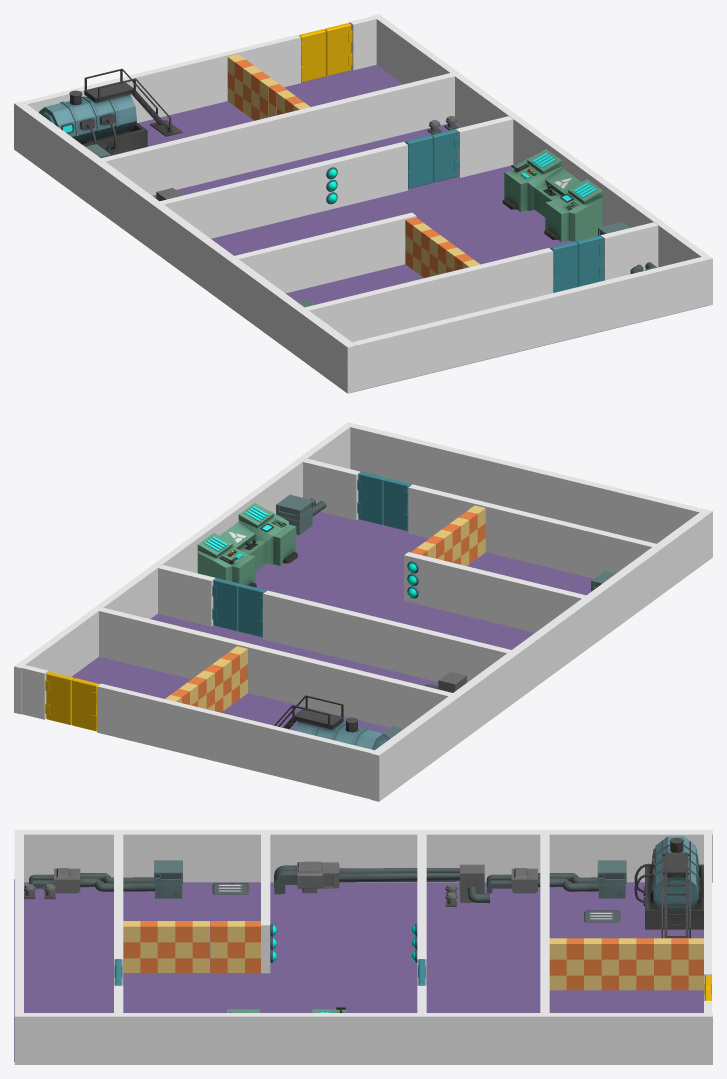
Rendered from maps_47.fbx.
3 renders of one model, top to bottom at view 1: azimuth 30°, elevation 25°; view 2: azimuth 150°, elevation 25°; view 3: azimuth 270°, elevation 25°, orthographic. The views are drawn at different scales.
Parts seen in each view (by area): view 1: wall_01_08_geo, wall_01_07_geo, wall_01_05_geo, wall_01_03_geo7, wall_01_03_geo10, wall_01_03_geo8, wall_01_06_geo, wall_01_03_geo9, wall_01_09_geo, table_01_geo, tankwater_geo, wall_01_03_geo11 (+6 smaller); view 2: wall_01_08_geo, wall_01_07_geo, wall_01_05_geo, wall_01_03_geo7, wall_01_09_geo, wall_01_03_geo10, wall_01_06_geo, wall_01_03_geo8, wall_01_03_geo9, table_01_geo, wall_01_03_geo11, wall_01_03_geo6 (+7 smaller); view 3: wall_01_08_geo, wall_01_06_geo, wall_01_07_geo, tankwater_geo, generatorStation_03_geo, generatorStation_04_geo, generatorStation_04_geo2, wall_01_03_geo7, wall_01_05_geo, wall_01_03_geo9, wall_01_03_geo8, wall_01_03_geo10 (+10 smaller).
Part boxes in pixels (<box>): wall_01_08_geo: <box>138,64,708,392</box>; wall_01_07_geo: <box>14,101,356,393</box>; wall_01_05_geo: <box>352,257,706,391</box>; wall_01_03_geo7: <box>101,73,454,195</box>; wall_01_03_geo10: <box>160,141,407,238</box>; wall_01_03_geo8: <box>305,248,553,341</box>; wall_01_06_geo: <box>372,14,712,306</box>; wall_01_03_geo9: <box>234,212,416,293</box>; wall_01_09_geo: <box>23,34,300,122</box>; table_01_geo: <box>502,149,602,241</box>; tankwater_geo: <box>39,68,182,155</box>; wall_01_03_geo11: <box>455,116,513,177</box>; wall_01_08_geo: <box>71,512,593,732</box>; wall_01_07_geo: <box>370,509,712,801</box>; wall_01_05_geo: <box>350,424,703,543</box>; wall_01_03_geo7: <box>99,608,452,728</box>; wall_01_09_geo: <box>97,683,374,798</box>; wall_01_03_geo10: <box>263,590,511,682</box>; wall_01_06_geo: <box>14,422,354,714</box>; wall_01_03_geo8: <box>408,484,655,578</box>; wall_01_03_geo9: <box>404,552,585,632</box>; table_01_geo: <box>197,503,297,587</box>; wall_01_03_geo11: <box>158,565,215,626</box>; wall_01_03_geo6: <box>303,458,360,520</box>; wall_01_08_geo: <box>14,879,703,1061</box>; wall_01_06_geo: <box>14,1013,712,1064</box>; wall_01_07_geo: <box>14,830,712,882</box>; tankwater_geo: <box>634,836,703,938</box>; generatorStation_03_geo: <box>274,861,489,903</box>; generatorStation_04_geo: <box>29,860,182,898</box>; generatorStation_04_geo2: <box>486,860,626,898</box>; wall_01_03_geo7: <box>540,834,549,1012</box>; wall_01_05_geo: <box>14,834,23,1012</box>; wall_01_03_geo9: <box>261,834,270,973</box>; wall_01_03_geo8: <box>114,834,123,985</box>; wall_01_03_geo10: <box>417,834,426,985</box>.
Size of the model in its own units: 73.34 by 12.65 by 116.
8 materials, 8 textured.
